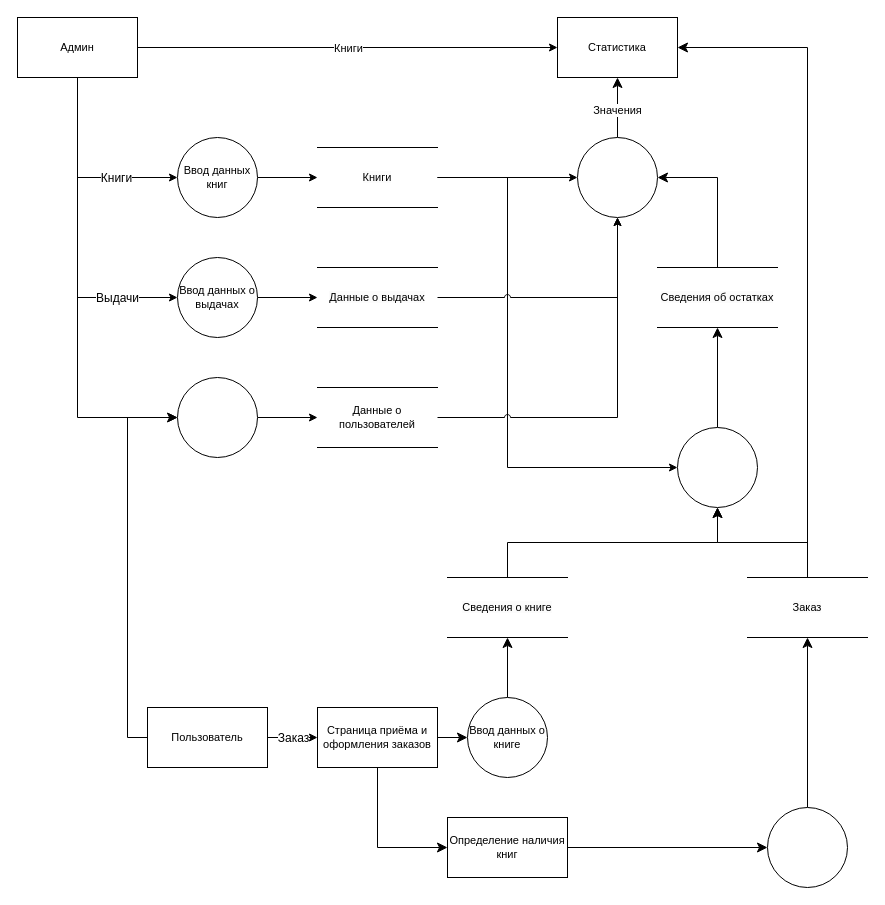
This 885x905 diagram has some shape labels left out. The shapes that lost their labels are listed below. From the top down, each one's centre as x and y in pixels, then its label:
point 617,177: Сбор статистики
point 217,417: Ввод данных о пользователях
point 717,467: Изменение остатка книг
point 807,847: Ввод заказа
